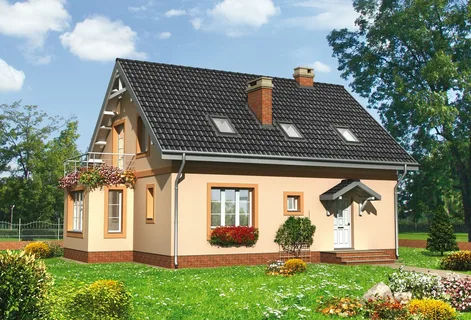private_hause: (68, 65, 410, 263)
